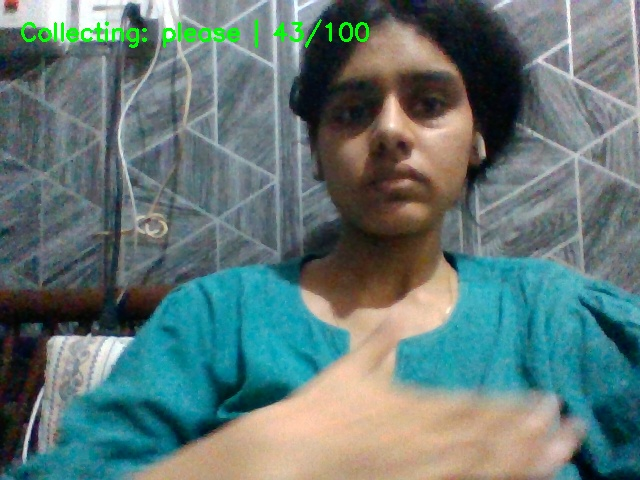please: (243, 305, 640, 480), (241, 313, 612, 480)
